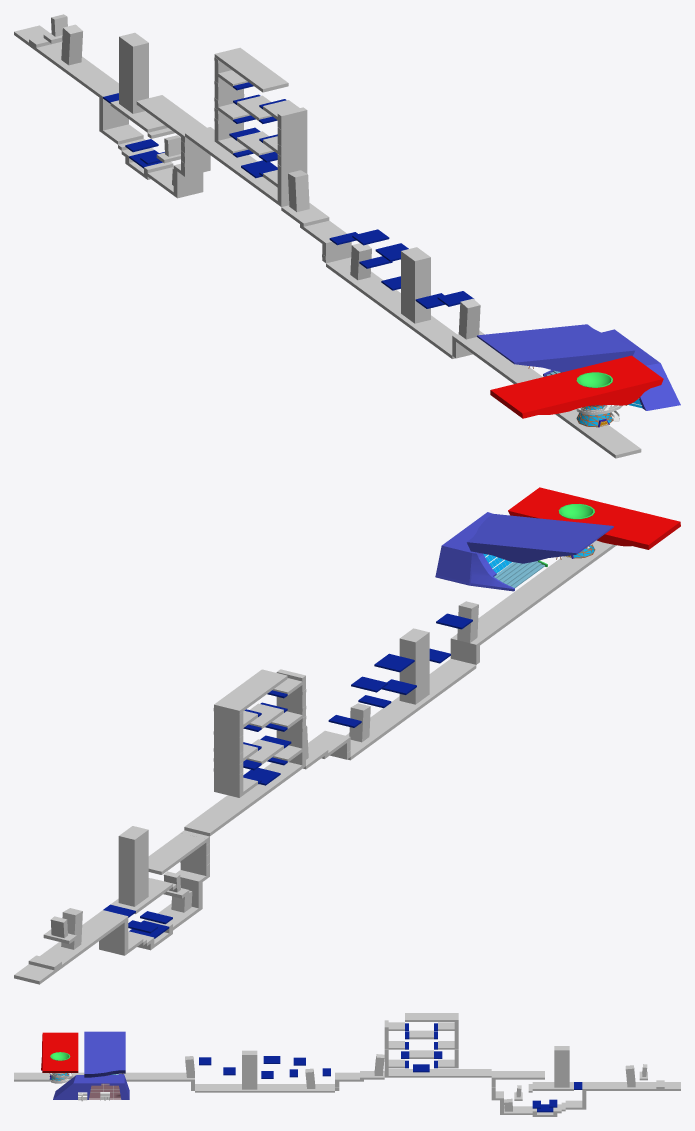
Rendered from map_1.fbx.
3 renders of one model, top to bottom at view 1: azimuth 30°, elevation 25°; view 2: azimuth 150°, elevation 25°; view 3: azimuth 270°, elevation 25°, orthographic. The views are drawn at different scales.
Visible parts, largest first — view 1: Object001, CineCenter_Roop_B_Geo, Box081, Box771, CC_Hill_CineCenter_Hill_Geo, Box654, Box062, Box791; view 2: Object001, CineCenter_Roop_B_Geo, CC_Hill_CineCenter_Hill_Geo, Box081, Box771; view 3: CineCenter_Roop_B_Geo, Object001, CC_Hill_CineCenter_Hill_Geo, Box081, Box771, Box062, Box654, Box791, Box737.
Boxes of the visible parts, bbox=[...] form: Object001: bbox=[490, 355, 663, 427]; CineCenter_Roop_B_Geo: bbox=[477, 324, 635, 372]; Box081: bbox=[119, 32, 148, 113]; Box771: bbox=[401, 247, 430, 323]; CC_Hill_CineCenter_Hill_Geo: bbox=[543, 329, 680, 410]; Box654: bbox=[288, 170, 309, 211]; Box062: bbox=[61, 24, 82, 65]; Box791: bbox=[458, 298, 480, 339]; Object001: bbox=[508, 487, 680, 558]; CineCenter_Roop_B_Geo: bbox=[466, 513, 613, 563]; CC_Hill_CineCenter_Hill_Geo: bbox=[435, 512, 547, 591]; Box081: bbox=[118, 826, 148, 906]; Box771: bbox=[399, 628, 429, 704]; CineCenter_Roop_B_Geo: bbox=[84, 1031, 125, 1077]; Object001: bbox=[41, 1032, 78, 1083]; CC_Hill_CineCenter_Hill_Geo: bbox=[53, 1074, 129, 1101]; Box081: bbox=[554, 1046, 569, 1087]; Box771: bbox=[242, 1050, 257, 1089]; Box062: bbox=[625, 1065, 635, 1087]; Box654: bbox=[374, 1054, 384, 1075]; Box791: bbox=[185, 1056, 194, 1077]; Box737: bbox=[305, 1068, 315, 1088].
Size of the model in its own units: 10880 by 10400 by 64800.
